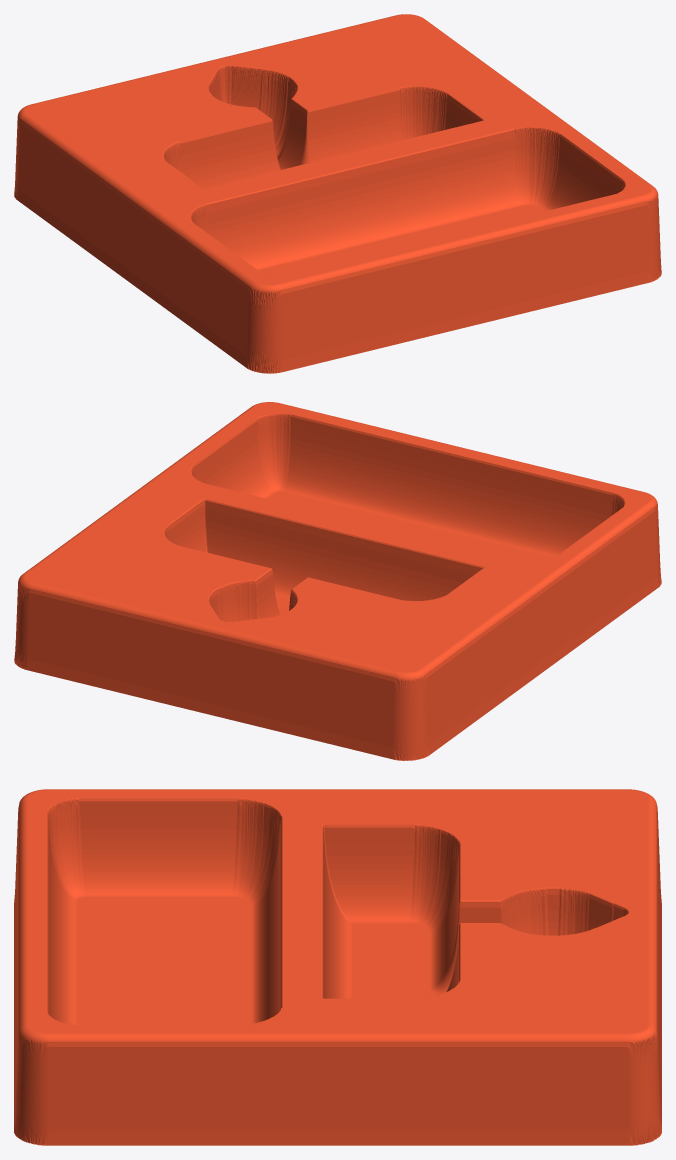
Rendered from mold.glb.
The picture shows the model from 3 angles, top to bottom: view 1: azimuth 30°, elevation 25°; view 2: azimuth 150°, elevation 25°; view 3: azimuth 270°, elevation 25°; orthographic projection. The views are drawn at different scales.
Visible parts, largest first — view 1: geometry_0; view 2: geometry_0; view 3: geometry_0.
Boxes of the visible parts, bbox=[...] form: geometry_0: bbox=[14, 14, 661, 373]; geometry_0: bbox=[14, 402, 661, 760]; geometry_0: bbox=[14, 789, 661, 1145].
Bounding box in the file's own units: 0.159 × 0.031 × 0.1709.
